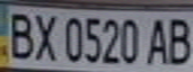0: (118, 15, 142, 66), (60, 12, 84, 63)
2: (100, 15, 124, 65)
5: (81, 13, 103, 64)
A: (145, 15, 172, 66)
B: (3, 8, 36, 61), (163, 14, 193, 65)
X: (30, 11, 60, 62)
